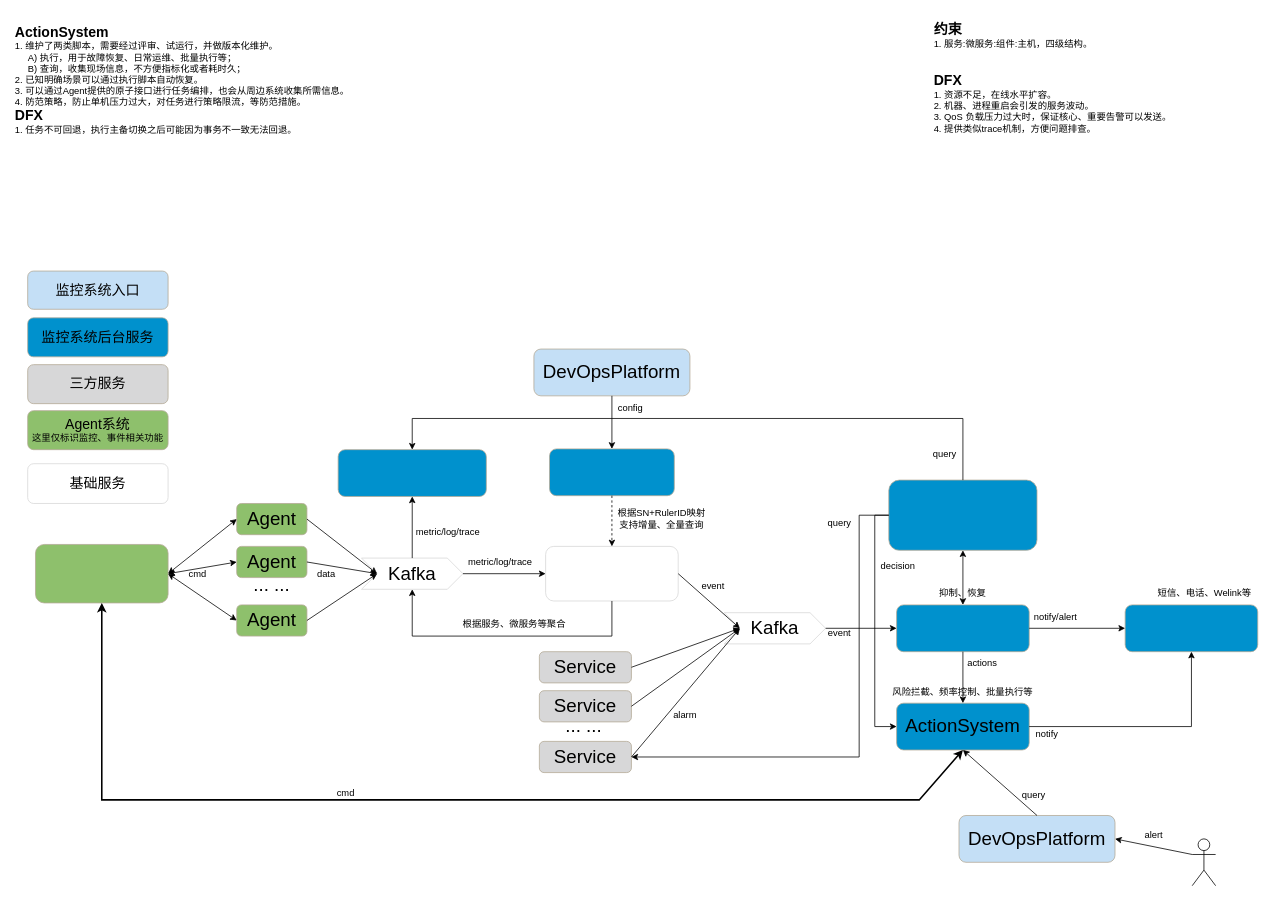
This 1272x913 diagram has some shape labels left out. Here are the shapes that lost their labels. From the top down, the box of each, then its label:
(337, 449, 486, 496): MonitorSystem
(549, 448, 674, 496): AlarmRules
(888, 479, 1037, 550): DataBrain Knowledge Graph Fault Tree Analysis Business Rules Engine
(35, 544, 168, 603): AgentServer
(545, 546, 678, 601): Streaming (Flink/Spark)
(896, 604, 1029, 652): AlertSystem
(1124, 604, 1258, 652): PagerSystem
(1191, 838, 1216, 886): User
